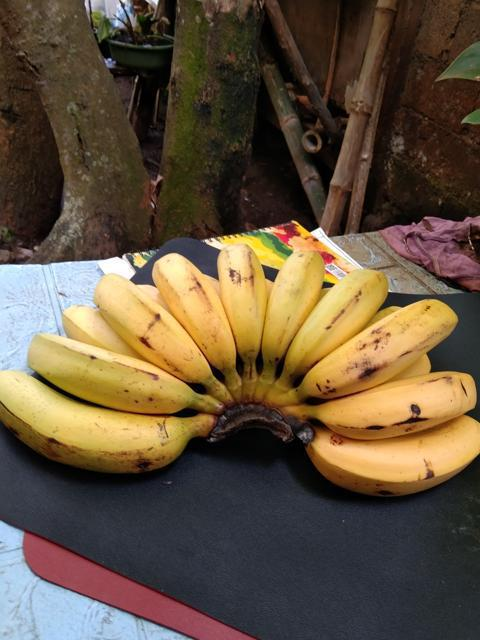freshripe: (0, 360, 188, 482), (307, 418, 479, 505)
